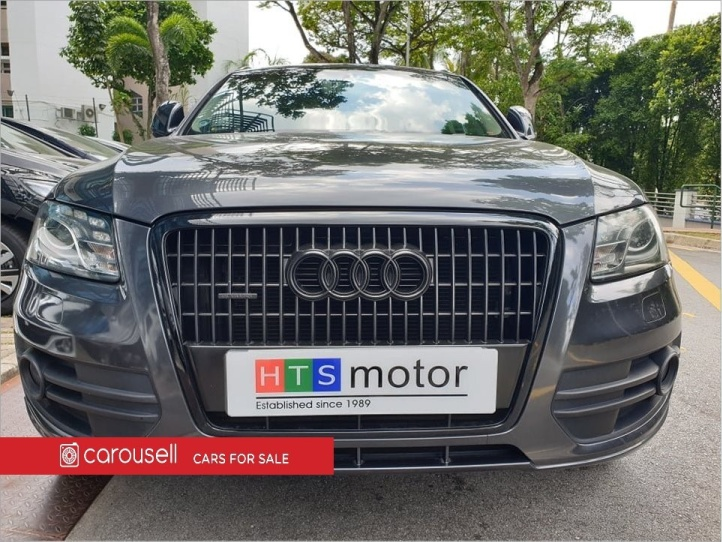audi: (275, 239, 442, 307)
